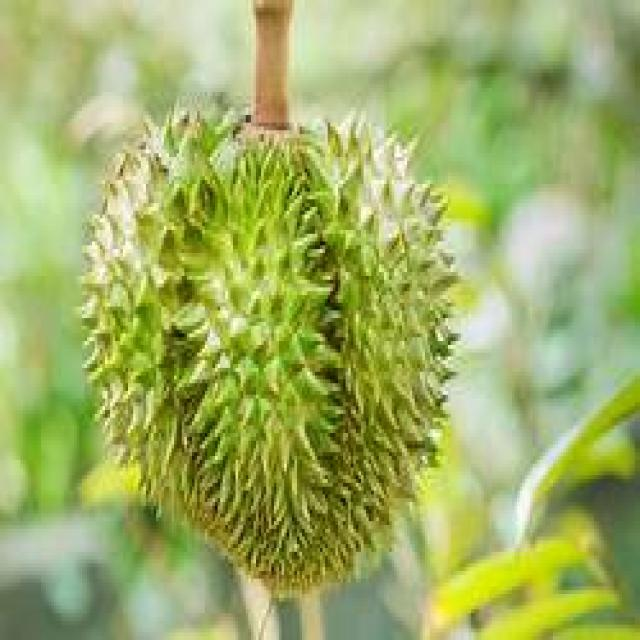immature: (81, 103, 467, 600)
